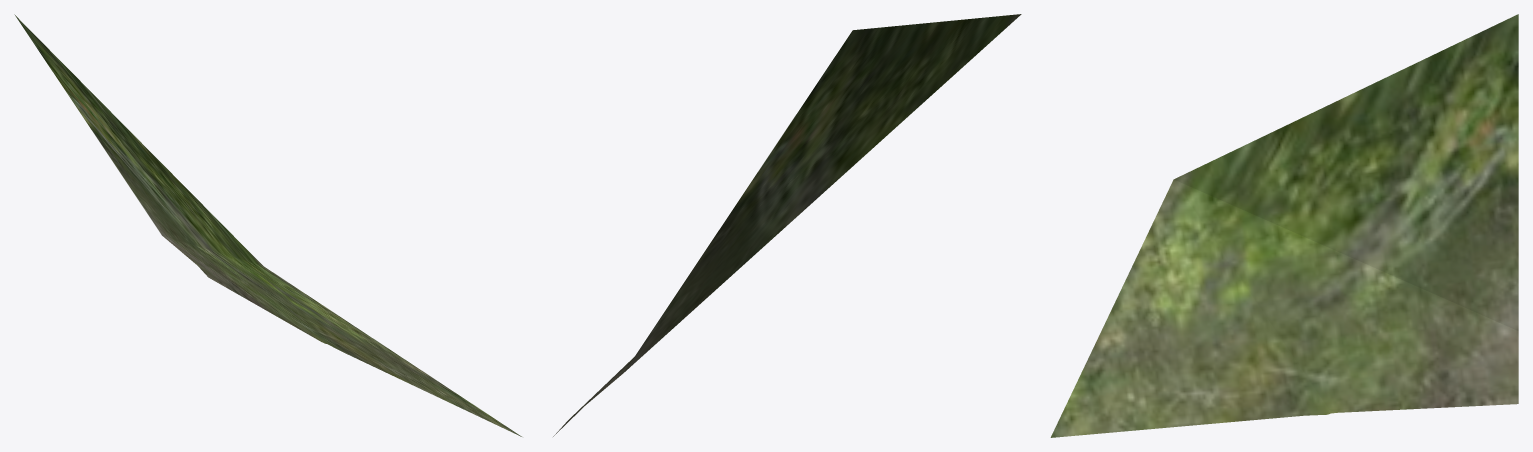
3 renders of one model, left to right at view 1: azimuth 30°, elevation 25°; view 2: azimuth 150°, elevation 25°; view 3: azimuth 270°, elevation 25°, orthographic. The views are drawn at different scales.
Bounding box in the file's own units: 2.39 × 2.67 × 3.78.
1 material, 1 textured.
